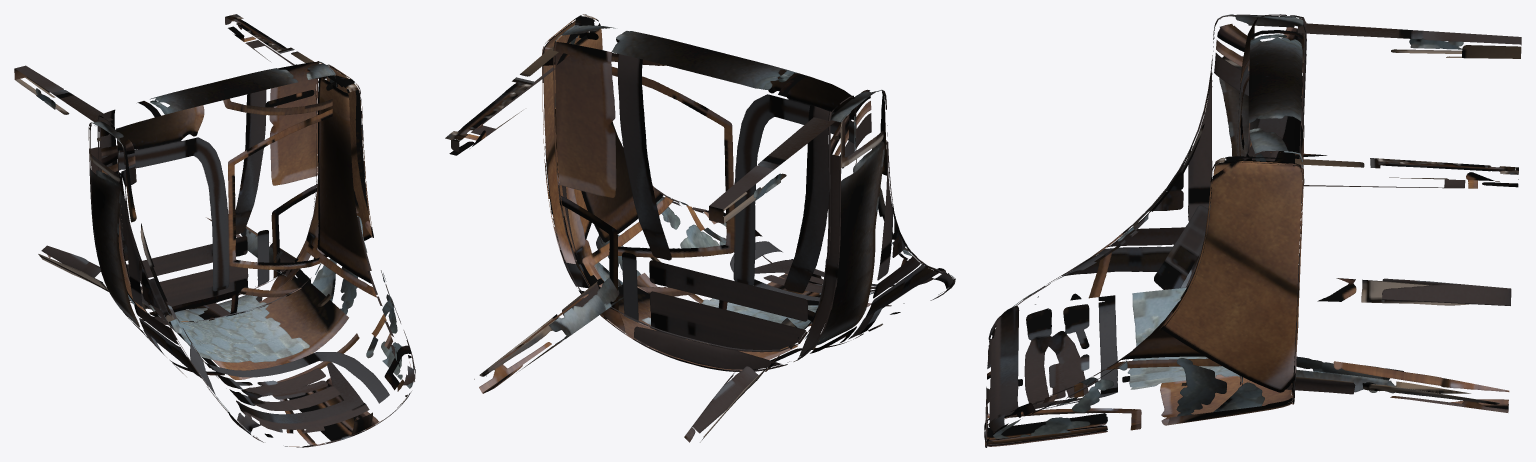
3 views of the same model, side by side, from view 1: azimuth 30°, elevation 25°; view 2: azimuth 150°, elevation 25°; view 3: azimuth 270°, elevation 25° (orthographic). The views are drawn at different scales.
Size of the model in its own units: 0.6061 by 0.6637 by 0.9124.
